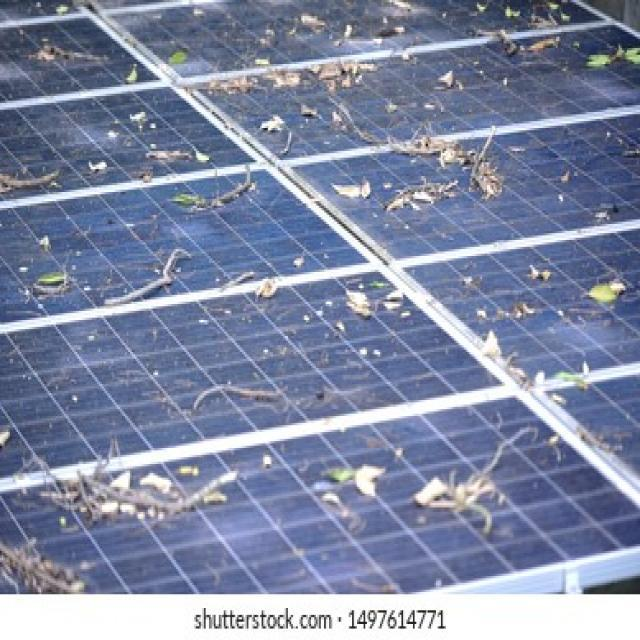faulty: (5, 2, 640, 585)
